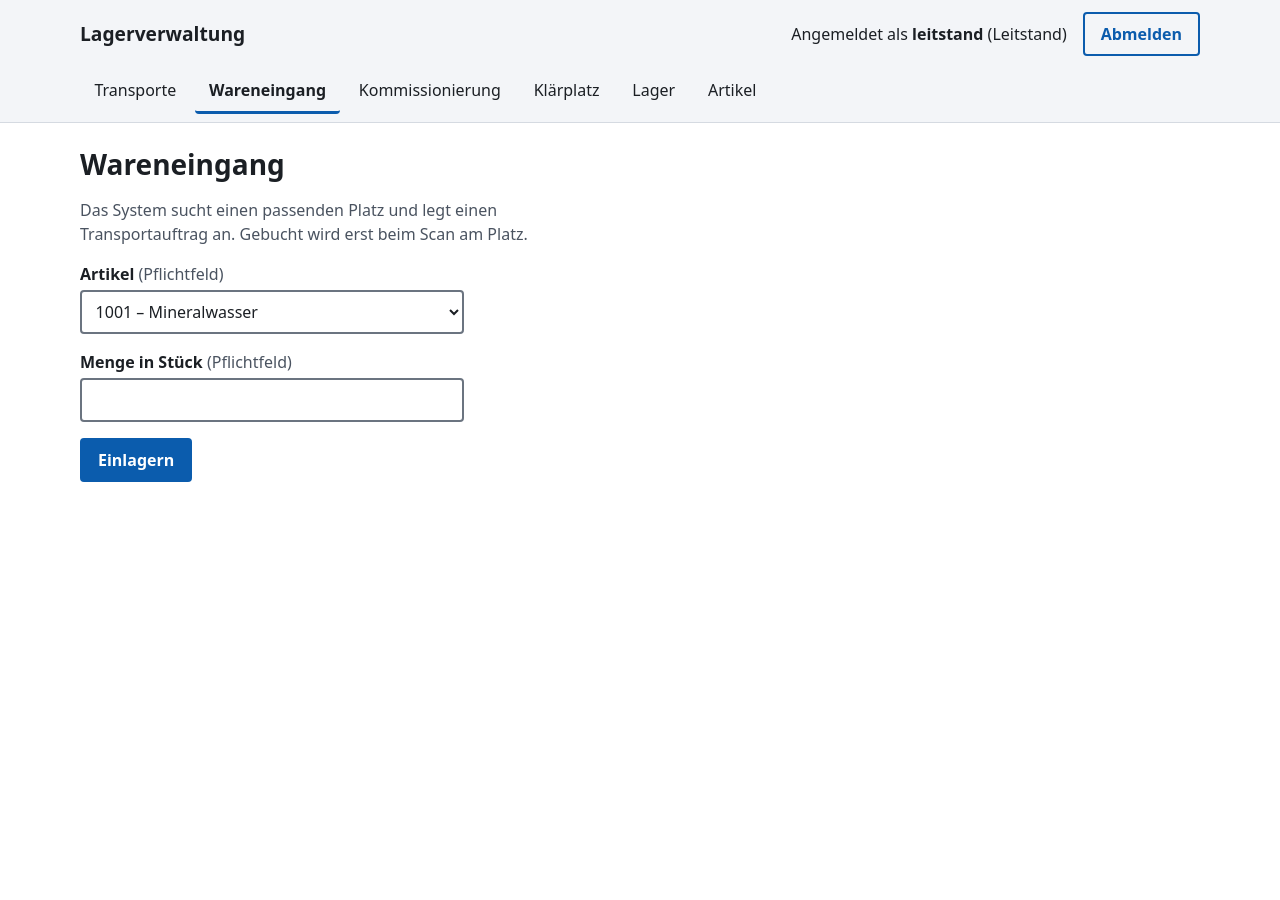
Scenario: Wareneingang: Feldfehler vom Server erscheinen am Feld und in einer Übersicht mit Fokus
Later steps or results of the test are not shown.
Click the button "Einlagern": click(136, 460) [80,438,192,482]
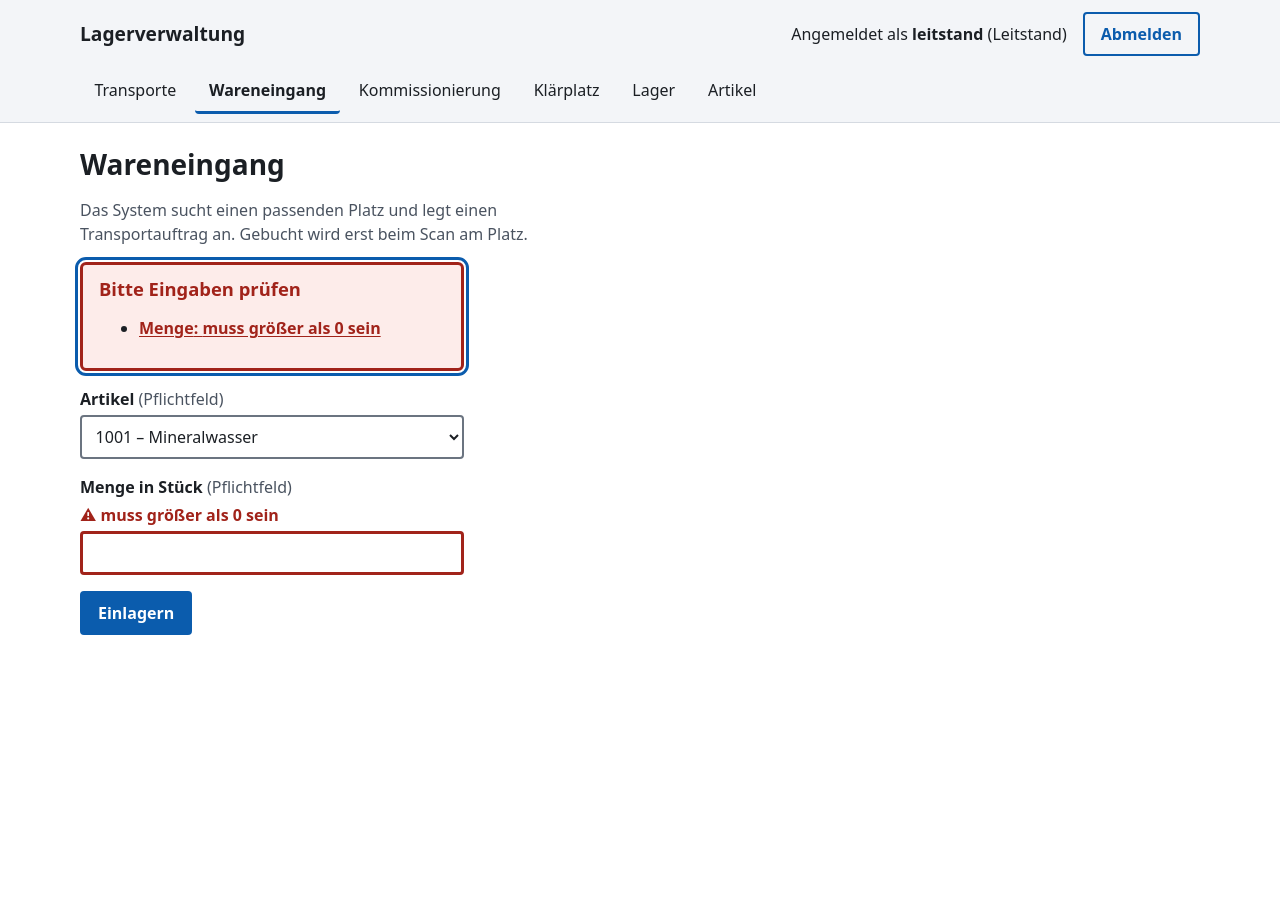
Result: the number field labelled "Menge in Stück (Pflichtfeld)" is marked as invalid at [80,531,464,575]
